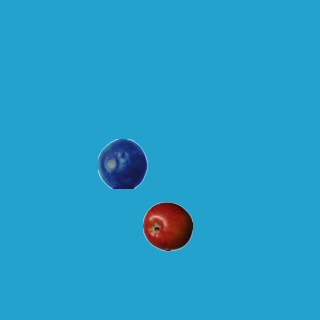Apple Braeburn: (142, 201, 192, 251)
Huckleberry: (97, 138, 147, 188)
